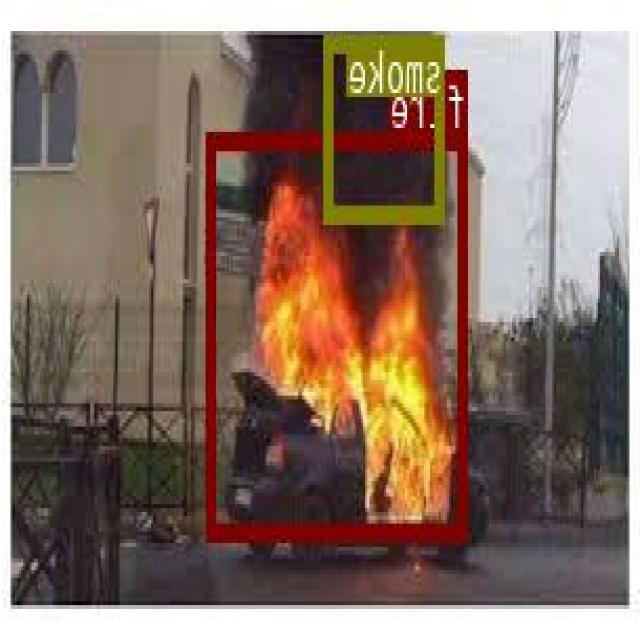fire: (209, 131, 469, 537)
smoke: (326, 31, 445, 221)
